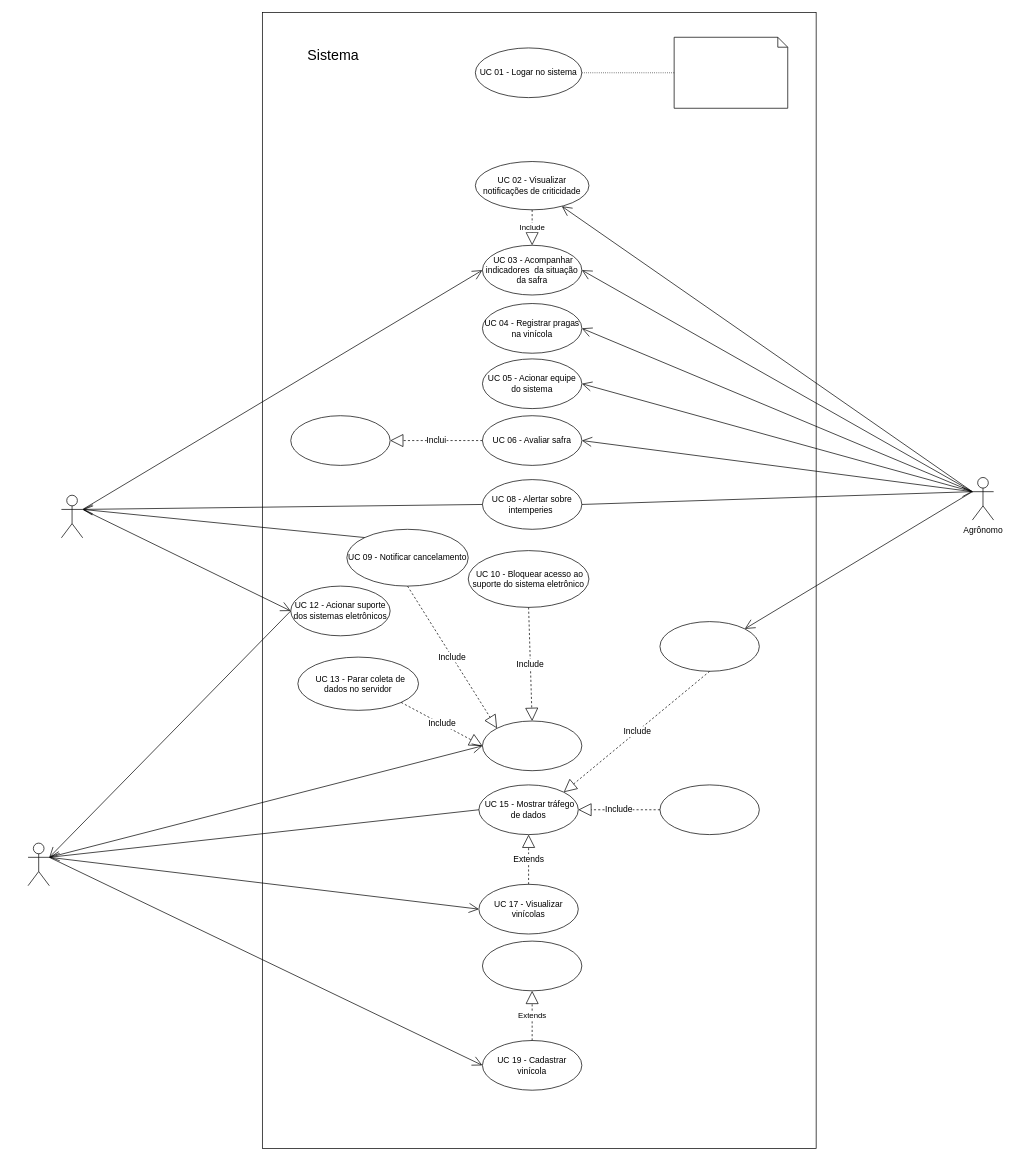
Some shapes in this 1015 by 1161 pixel diagram are drawn without their labels. The shapes that lost their labels are listed below. From the top down, each one's box as (x1, y1, x2, y2) in pixels, then its label:
(673, 37, 788, 108): Para todas as ações do sistema é necessário que o usuário esteja logado
(290, 415, 390, 465): UC 07 - Predizer qualidade do vinho
(61, 495, 83, 538): Agricultor
(659, 621, 759, 671): UC11 - Gerenciar sistemas eletrônicos da safra
(482, 720, 582, 771): UC 14 - Cancelar contrato
(659, 784, 759, 835): UC 16 - Notificar mau funcionamento de sistema eletrônico
(27, 842, 49, 886): Administrador
(482, 940, 582, 991): UC 18 - Cadastrar contrato
